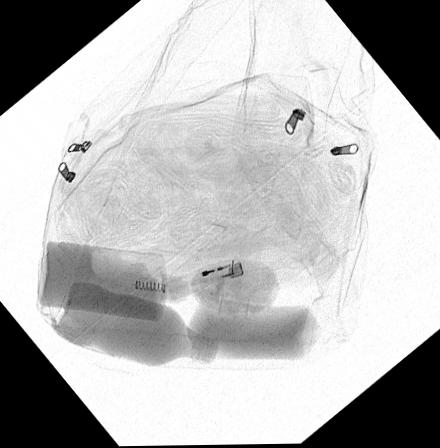Lighter: (164, 255, 243, 300)
